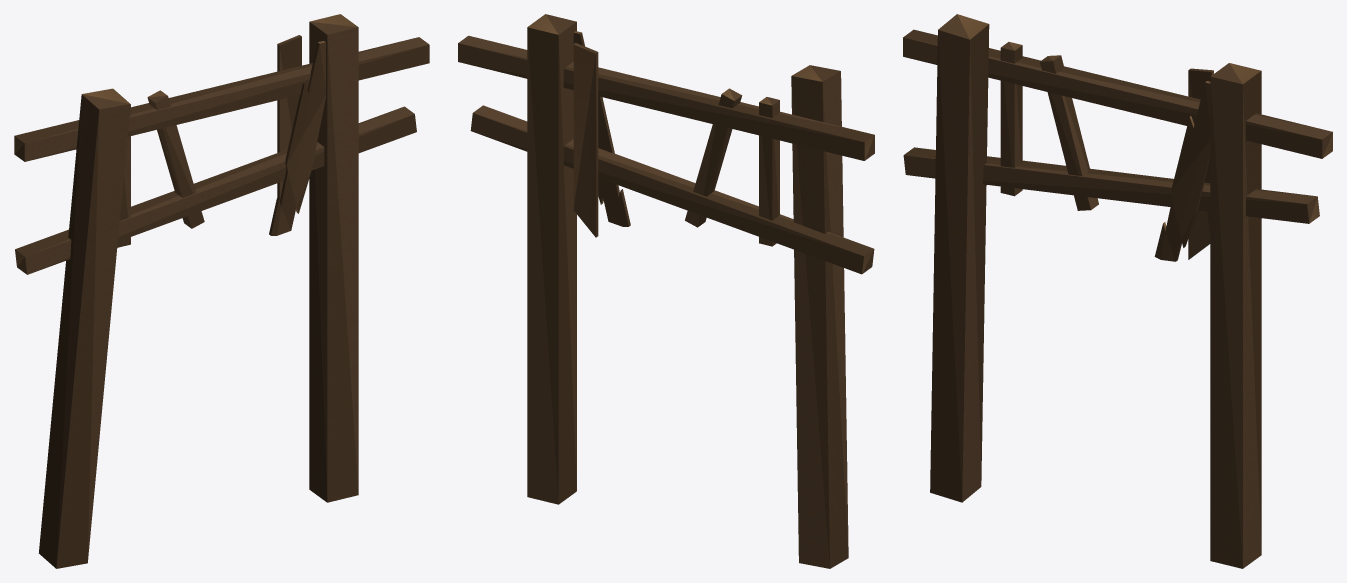
File: Wood_9A_Lod1.fbx
3 renders of one model, left to right at view 1: azimuth 30°, elevation 25°; view 2: azimuth 150°, elevation 25°; view 3: azimuth 330°, elevation 25°, orthographic. The views are drawn at different scales.
Parts seen in each view (by area): view 1: polySurface1101; view 2: polySurface1101; view 3: polySurface1101.
Part boxes in pixels (x1,y1,x2,y2): polySurface1101: (14, 14, 429, 568); polySurface1101: (458, 14, 874, 568); polySurface1101: (903, 14, 1332, 568).
Bounding box in the file's own units: 905 × 1005 × 139.
Materials: 1 (1 with a texture image).
